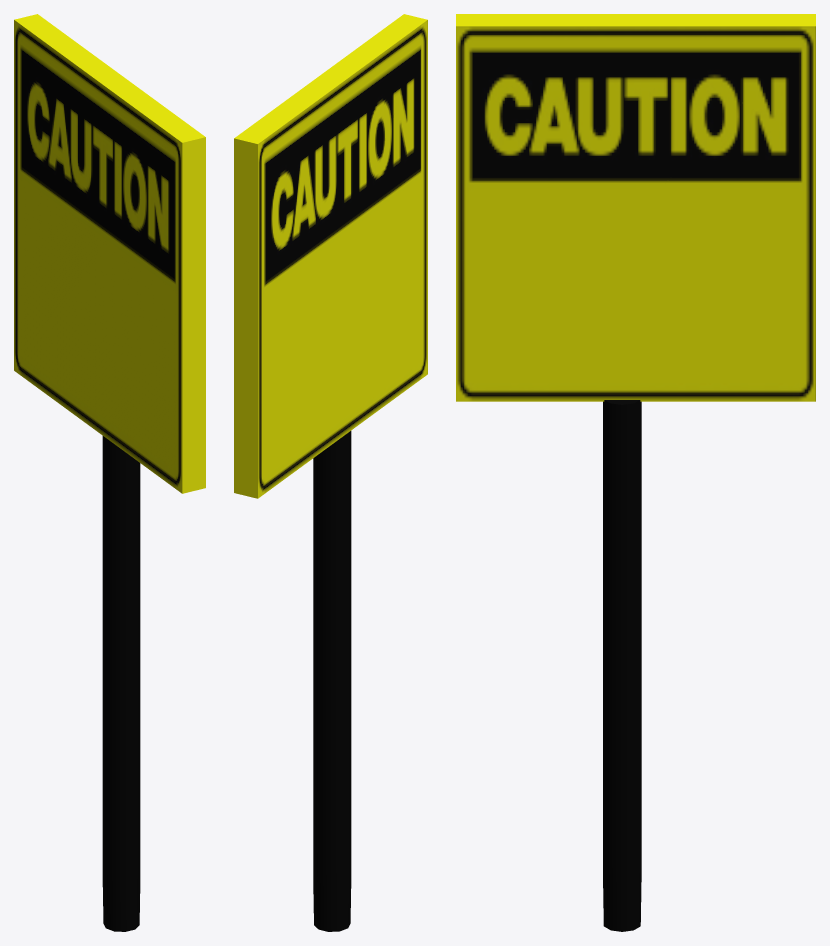
Rendered from traffic sign9.FBX.
3 views of the same model, side by side, from view 1: azimuth 30°, elevation 25°; view 2: azimuth 150°, elevation 25°; view 3: azimuth 270°, elevation 25° (orthographic). The views are drawn at different scales.
Visible parts, largest first — view 1: Cylinder002; view 2: Cylinder002; view 3: Cylinder002.
Boxes of the visible parts, x1,y1,x2,y2 form: Cylinder002: (14, 14, 205, 931); Cylinder002: (234, 14, 427, 931); Cylinder002: (456, 14, 815, 931).
Bounding box in the file's own units: 1.42 × 34.19 × 12.37.
